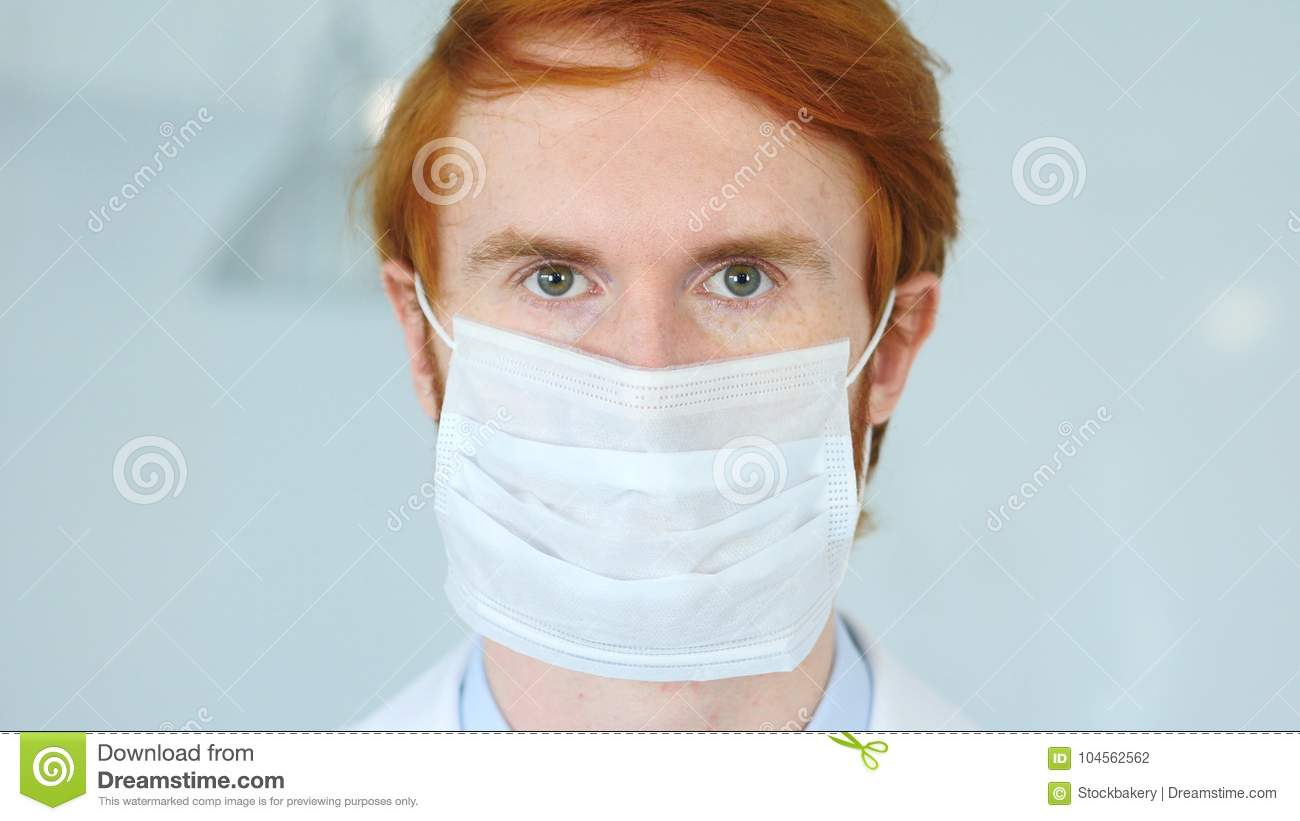mask: (421, 312, 867, 687)
